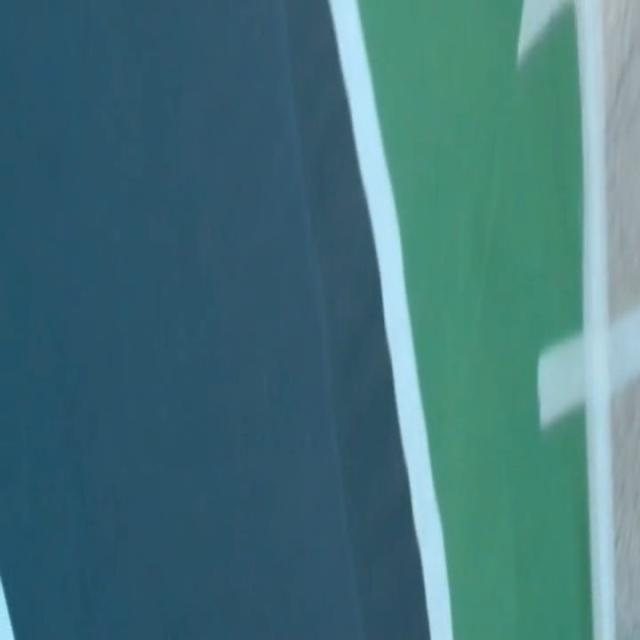center: (0, 578, 14, 639)
right: (328, 0, 452, 639)
